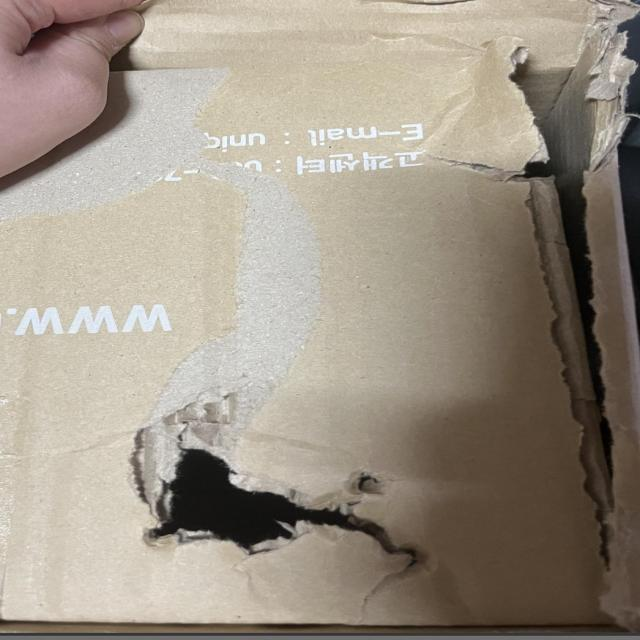damaged: (133, 444, 432, 558)
